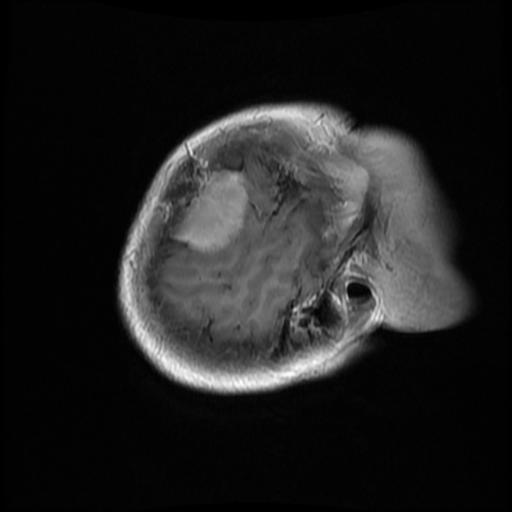meningioma: (170, 168, 247, 254)
